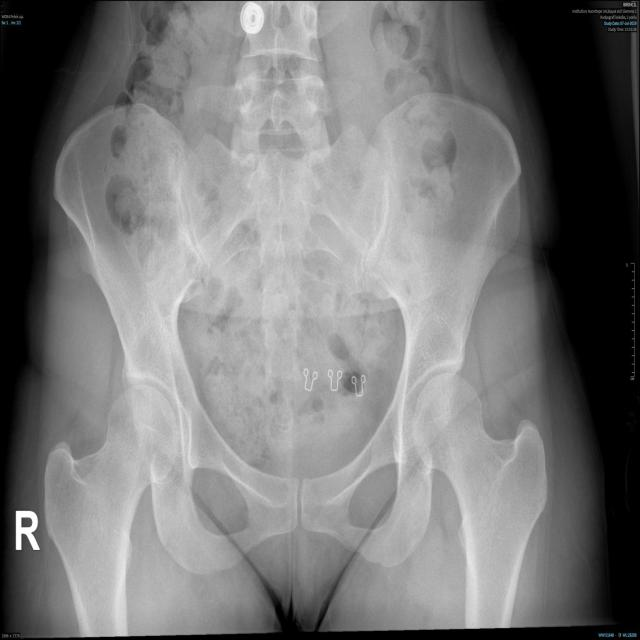normal-left: (412, 373, 548, 628)
normal-right: (45, 385, 179, 637)
